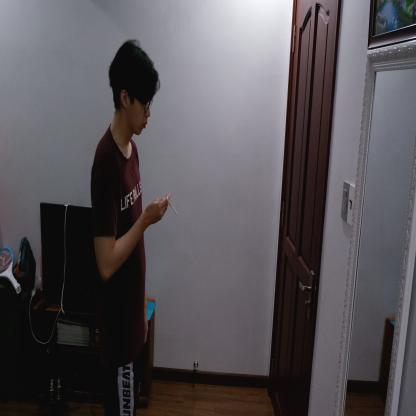cigarette: (168, 201, 178, 217)
person: (86, 37, 170, 415)
